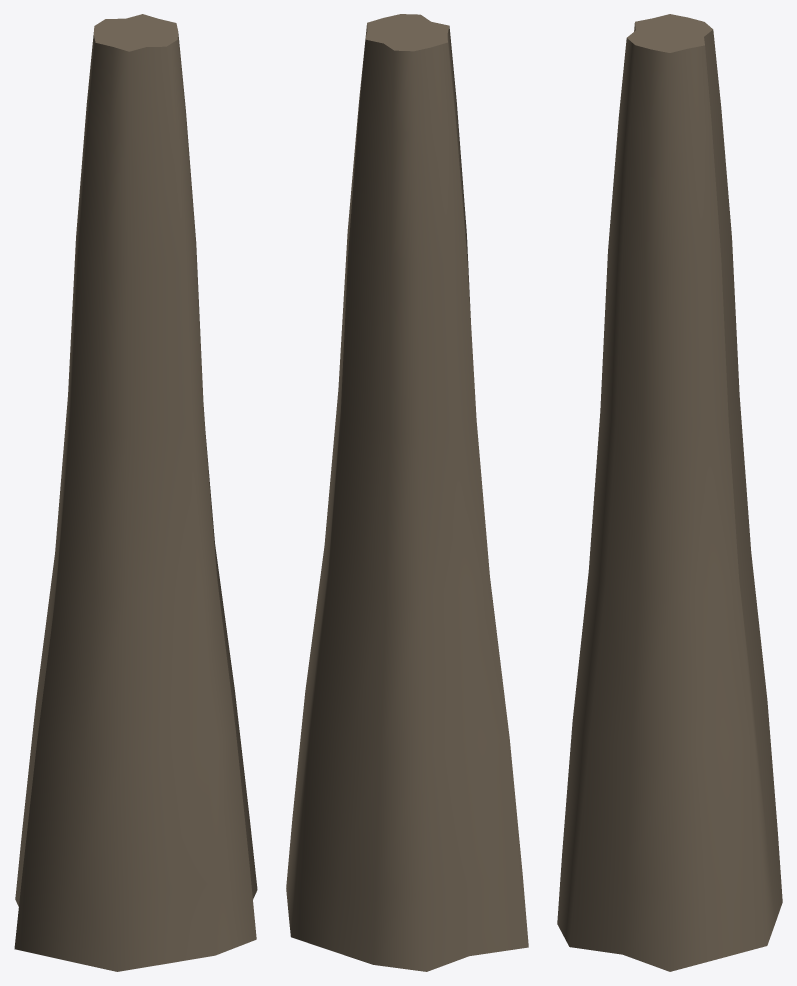
Rendered from forest-branch-tapered.fbx.
3 renders of one model, left to right at view 1: azimuth 30°, elevation 25°; view 2: azimuth 150°, elevation 25°; view 3: azimuth 270°, elevation 25°, orthographic.
Visible parts, largest first — view 1: SM_DY_ForestBranch_Tapered; view 2: SM_DY_ForestBranch_Tapered; view 3: SM_DY_ForestBranch_Tapered.
Part boxes in pixels (left/top/right/bottom): SM_DY_ForestBranch_Tapered: left=14, top=14, right=257, bottom=971; SM_DY_ForestBranch_Tapered: left=286, top=14, right=528, bottom=971; SM_DY_ForestBranch_Tapered: left=557, top=14, right=782, bottom=971.
Bounding box in the file's own units: 28.69 × 23.24 × 100.
